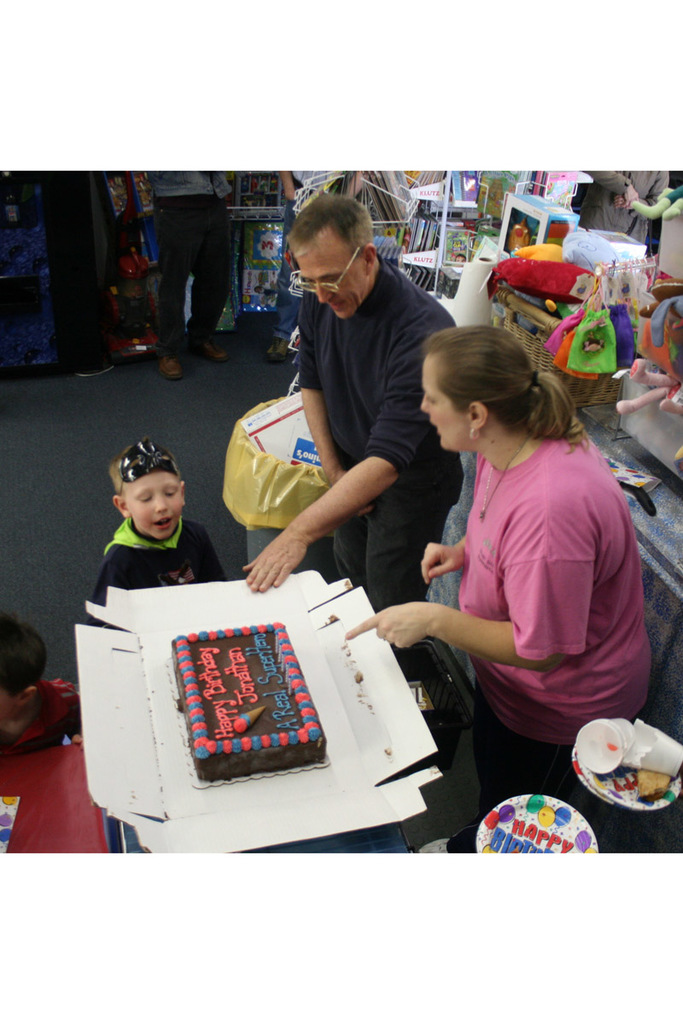cake: (173, 619, 324, 779)
